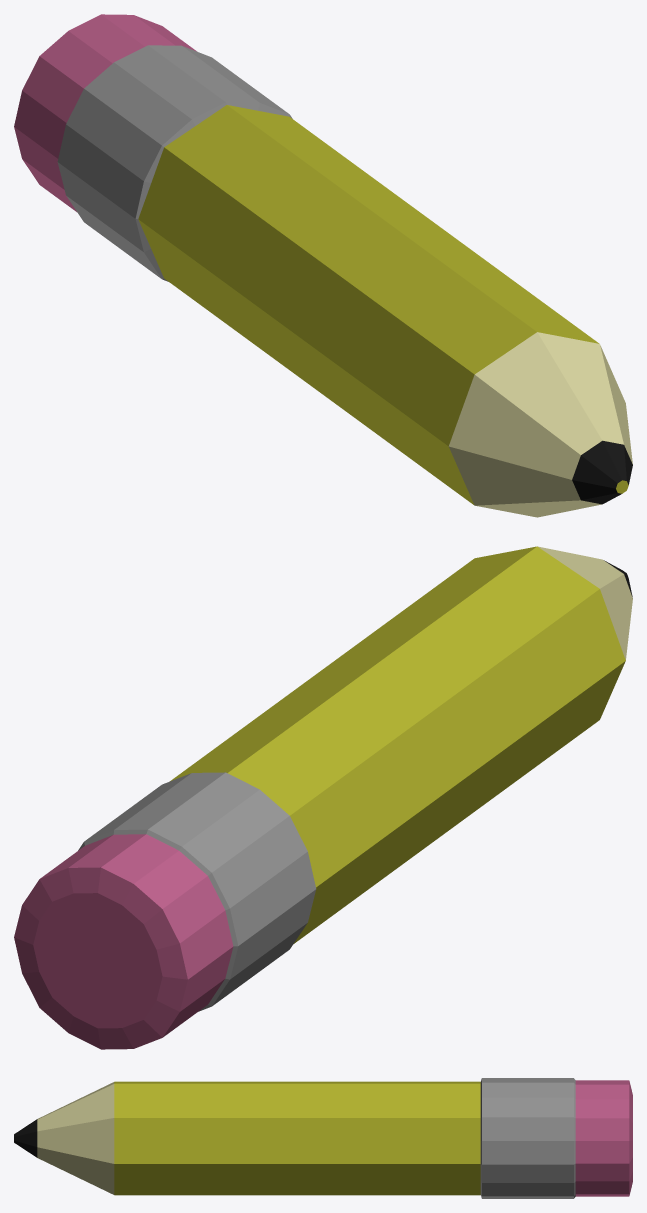
Rendered from pencilFatFbx.fbx.
The picture shows the model from 3 angles, top to bottom: view 1: azimuth 30°, elevation 25°; view 2: azimuth 150°, elevation 25°; view 3: azimuth 270°, elevation 25°; orthographic projection. The views are drawn at different scales.
Parts seen in each view (by area): view 1: pencilFat; view 2: pencilFat; view 3: pencilFat.
Part boxes in pixels (x1,y1,x2,y2): pencilFat: (14,14,632,517); pencilFat: (14,546,632,1049); pencilFat: (14,1078,632,1198).
Bounding box in the file's own units: 0.0212 × 0.0212 × 0.1064.
